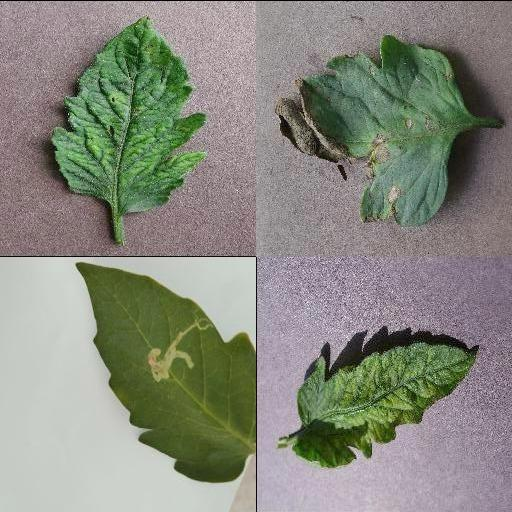Early Blight: (273, 31, 469, 229)
Leaf Miner: (73, 262, 256, 482)
Mosaic Virus: (51, 14, 209, 214), (290, 342, 478, 470)
